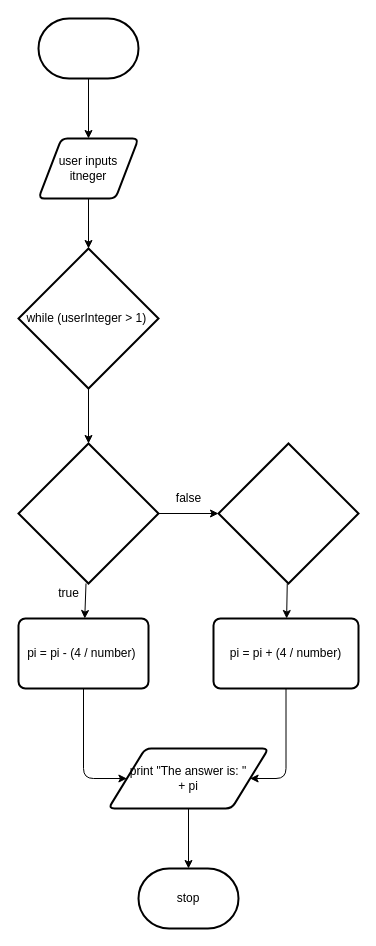
Some shapes in this 376 by 946 pixel diagram are drawn without their labels. Here are the shapes that lost their labels. From the top down, the box of each, then its label:
(37, 17, 139, 79): start
(17, 442, 159, 584): if (positiveOrNegative == "minus")
(217, 442, 359, 584): else (positiveOrNegative == "plus")
